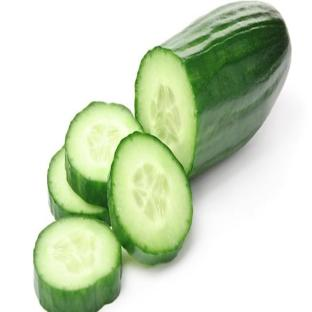Cucumber: (136, 2, 291, 177), (108, 132, 192, 264), (34, 217, 121, 311), (65, 102, 142, 206), (48, 148, 109, 224)
